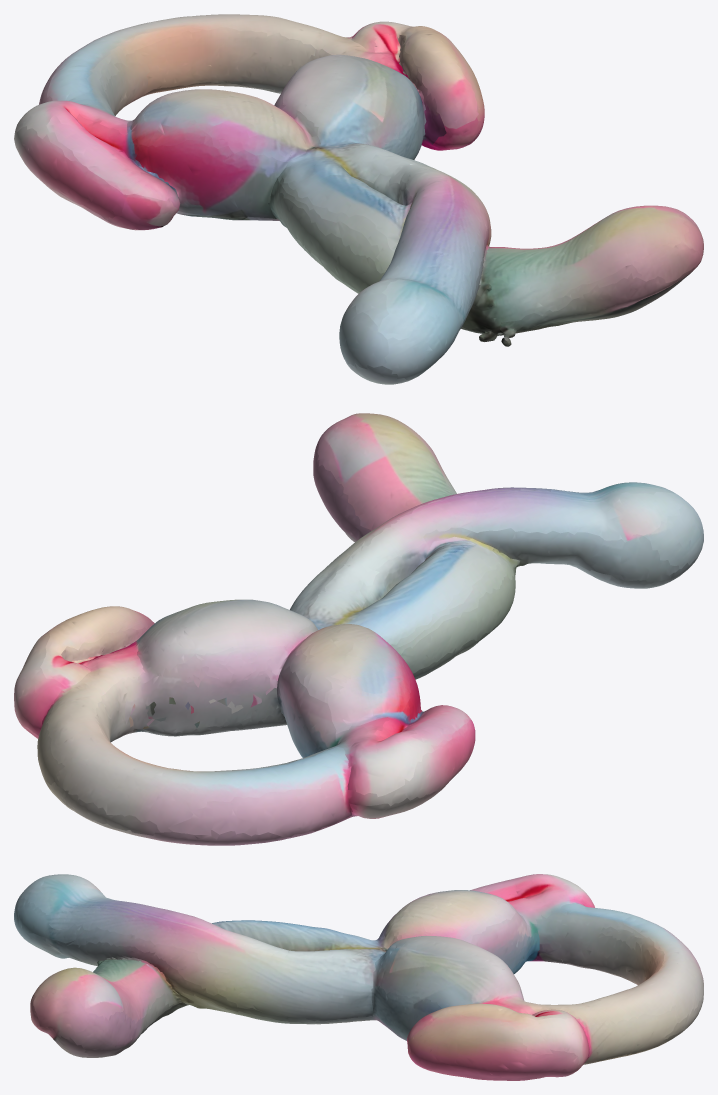
The model's file is muff.glb.
3 views of the same model, one above another, from view 1: azimuth 30°, elevation 25°; view 2: azimuth 150°, elevation 25°; view 3: azimuth 270°, elevation 25° (orthographic). The views are drawn at different scales.
Visible parts, largest first — view 1: textured_mesh; view 2: textured_mesh; view 3: textured_mesh.
Part boxes in pixels (box(x1,y1,x2,y2)): textured_mesh: box(14, 14, 703, 384); textured_mesh: box(14, 413, 703, 845); textured_mesh: box(14, 874, 703, 1080).
Size of the model in its own units: 1.15 by 0.2866 by 1.99.
1 material, 1 textured.
